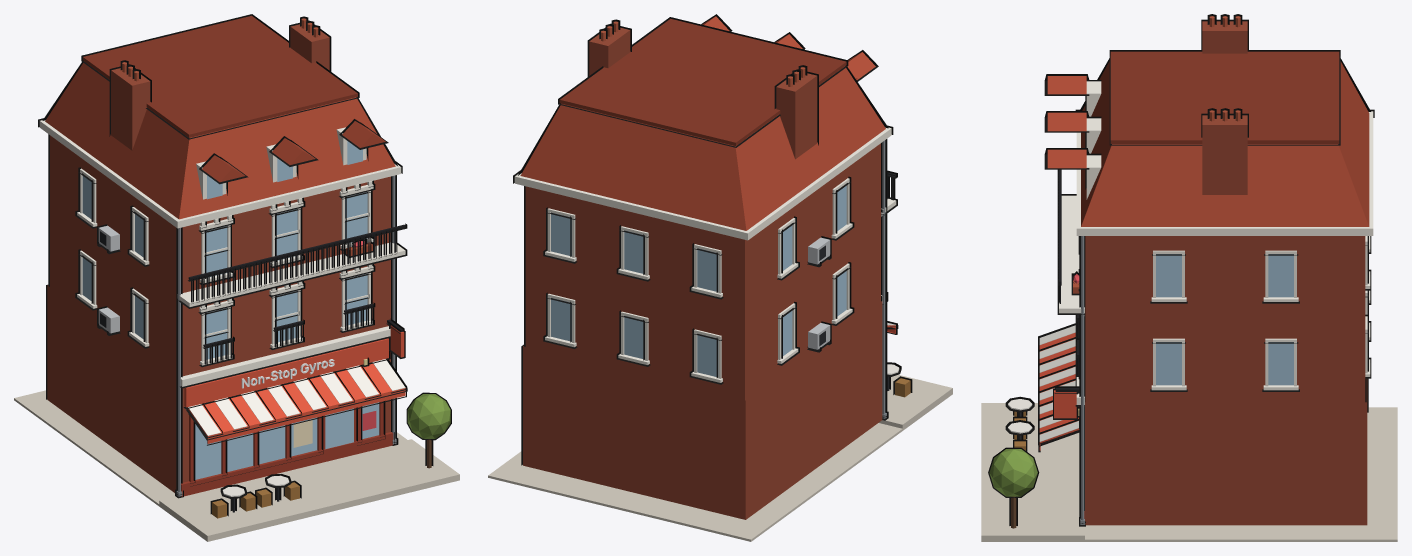
File: Dukkan_nonstop_gyros.fbx
The picture shows the model from 3 angles, left to right: view 1: azimuth 30°, elevation 25°; view 2: azimuth 150°, elevation 25°; view 3: azimuth 270°, elevation 25°; orthographic projection. The views are drawn at different scales.
Visible parts, largest first — view 1: Dukkan_nonstop_gyros; view 2: Dukkan_nonstop_gyros; view 3: Dukkan_nonstop_gyros.
Part boxes in pixels (x1,y1,x2,y2): Dukkan_nonstop_gyros: (14, 14, 459, 541); Dukkan_nonstop_gyros: (488, 14, 952, 541); Dukkan_nonstop_gyros: (981, 14, 1397, 541).
Bounding box in the file's own units: 9.87 × 14.06 × 12.86.
